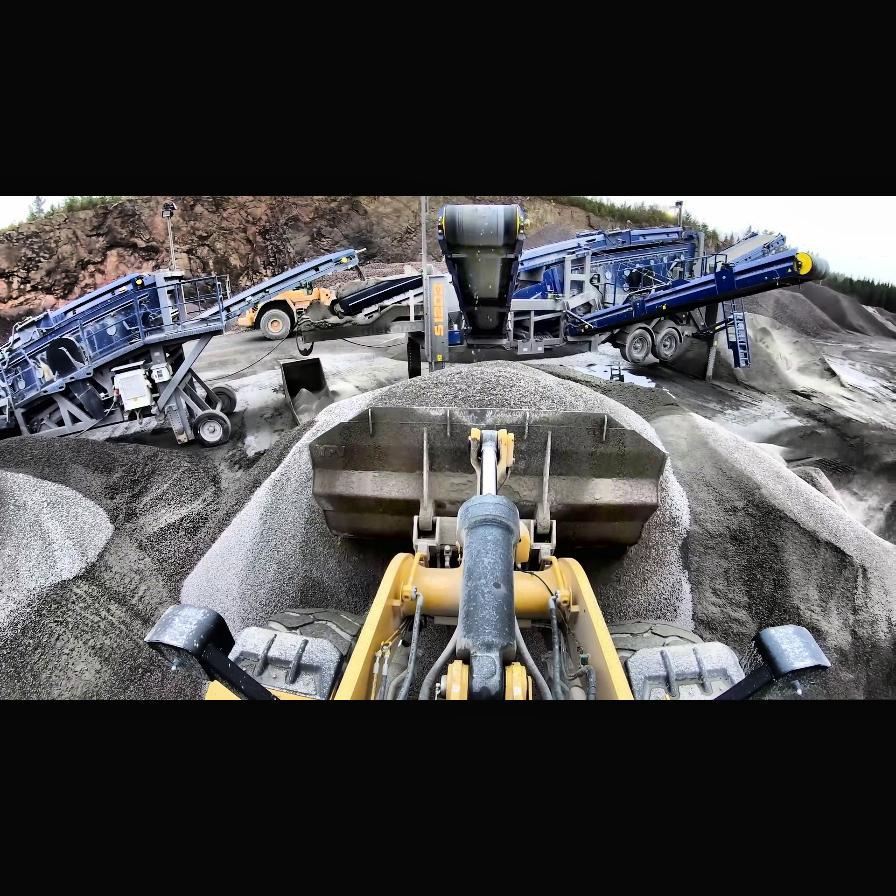anchor: (466, 426, 514, 496)
pile of gravel: (178, 360, 896, 692), (0, 472, 114, 612), (772, 280, 892, 338)
